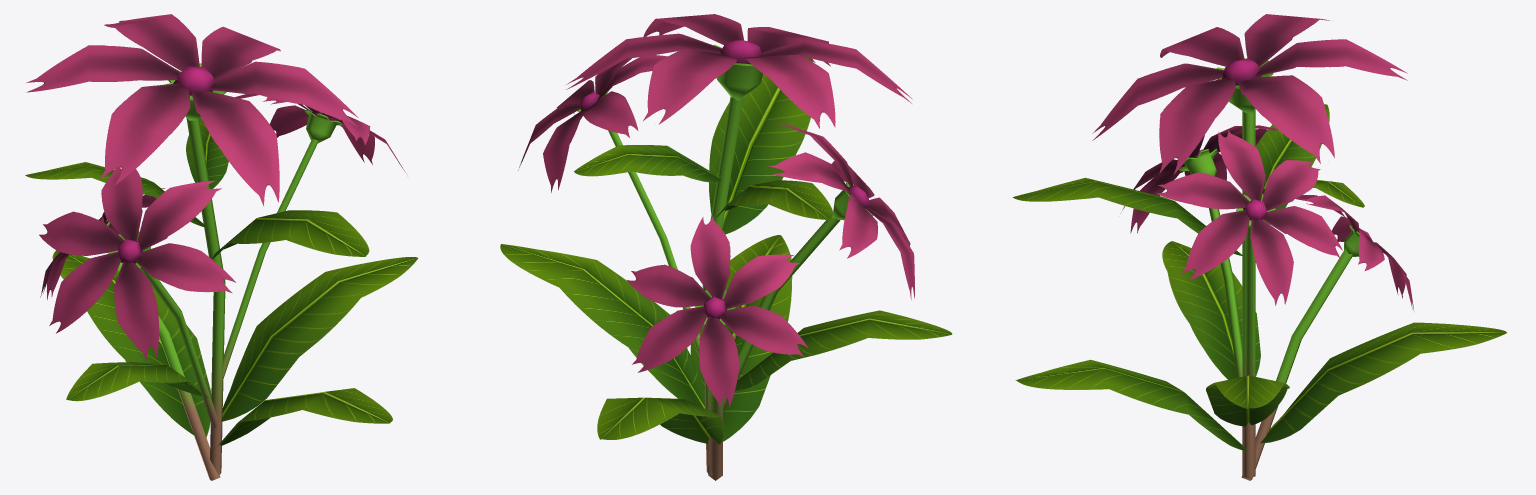
Rendered from GARDEN_Flower002.FBX.
The picture shows the model from 3 angles, left to right: view 1: azimuth 30°, elevation 25°; view 2: azimuth 150°, elevation 25°; view 3: azimuth 270°, elevation 25°; orthographic projection. The views are drawn at different scales.
Parts seen in each view (by area): view 1: Plane713, Plane714, Plane712, Plane711, Plane715, Plane710, Plane707, Line077, Plane716, Plane731, Plane726, Plane717 (+15 smaller); view 2: Plane713, Plane715, Plane717, Plane714, Plane716, Plane708, Plane710, Plane719, Plane736, Plane718, Plane732, Plane734 (+21 smaller); view 3: Plane714, Plane717, Plane716, Plane709, Plane707, Plane715, Plane708, Plane713, Plane712, Plane725, Plane720, Plane724 (+15 smaller).
Boxes of the visible parts, x1,y1,x2,y2 form: Plane713: [221, 257, 418, 421]; Plane714: [52, 250, 211, 437]; Plane712: [191, 91, 279, 206]; Plane711: [100, 83, 190, 185]; Plane715: [212, 210, 369, 259]; Plane710: [26, 45, 180, 92]; Plane707: [209, 61, 358, 127]; Line077: [186, 118, 225, 475]; Plane716: [215, 388, 392, 448]; Plane731: [135, 243, 235, 293]; Plane726: [113, 261, 158, 360]; Plane717: [66, 362, 207, 401]; Plane713: [500, 244, 705, 408]; Plane715: [709, 57, 813, 234]; Plane717: [735, 310, 952, 390]; Plane714: [597, 397, 724, 444]; Plane716: [690, 235, 792, 441]; Plane708: [643, 48, 736, 124]; Plane710: [738, 54, 835, 128]; Plane719: [574, 145, 721, 182]; Plane736: [699, 316, 739, 408]; Plane718: [716, 180, 833, 219]; Plane732: [719, 305, 807, 356]; Plane734: [632, 306, 707, 372]; Plane714: [1260, 322, 1506, 443]; Plane717: [1162, 241, 1260, 379]; Plane716: [1015, 359, 1246, 451]; Plane709: [1238, 75, 1334, 163]; Plane707: [1159, 78, 1235, 175]; Plane715: [1012, 177, 1242, 255]; Plane708: [1254, 39, 1407, 80]; Plane713: [1206, 375, 1289, 426]; Plane712: [1092, 63, 1223, 140]; Plane725: [1181, 210, 1249, 280]; Plane720: [1250, 218, 1293, 305]; Plane724: [1156, 172, 1249, 209].
Bounding box in the file's own units: 22.39 × 25.05 × 22.09.
